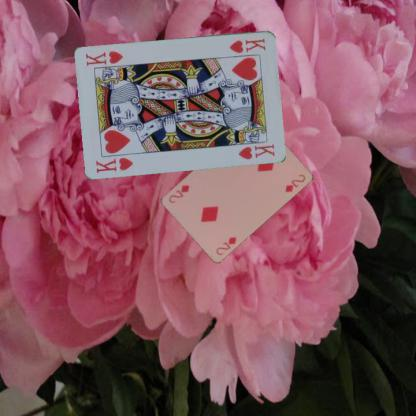2d: (213, 234, 238, 257)
Kh: (93, 154, 135, 174), (227, 36, 267, 54)
